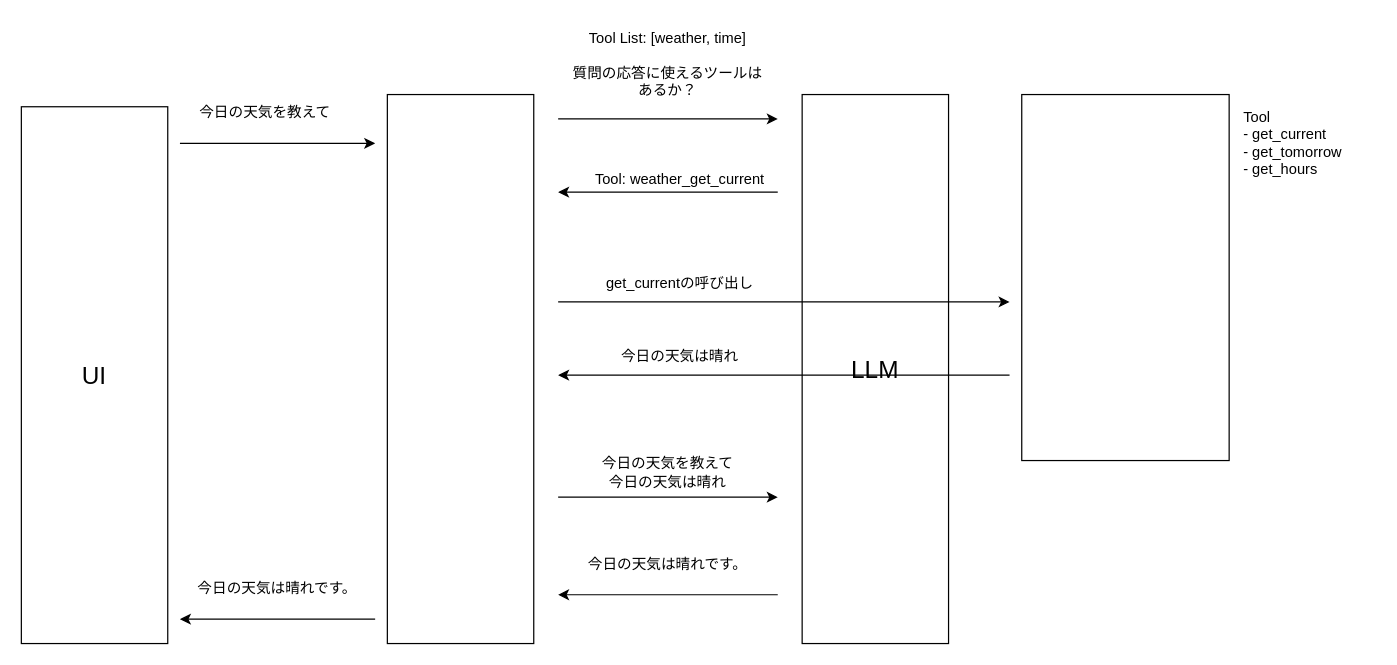
The diagram is 1397 pixels wide and 665 high, and some of its shapes have lost their labels. Each missing label, with the box of its shape:
server: (386, 93, 534, 644)
weather_server: (1021, 93, 1229, 461)
